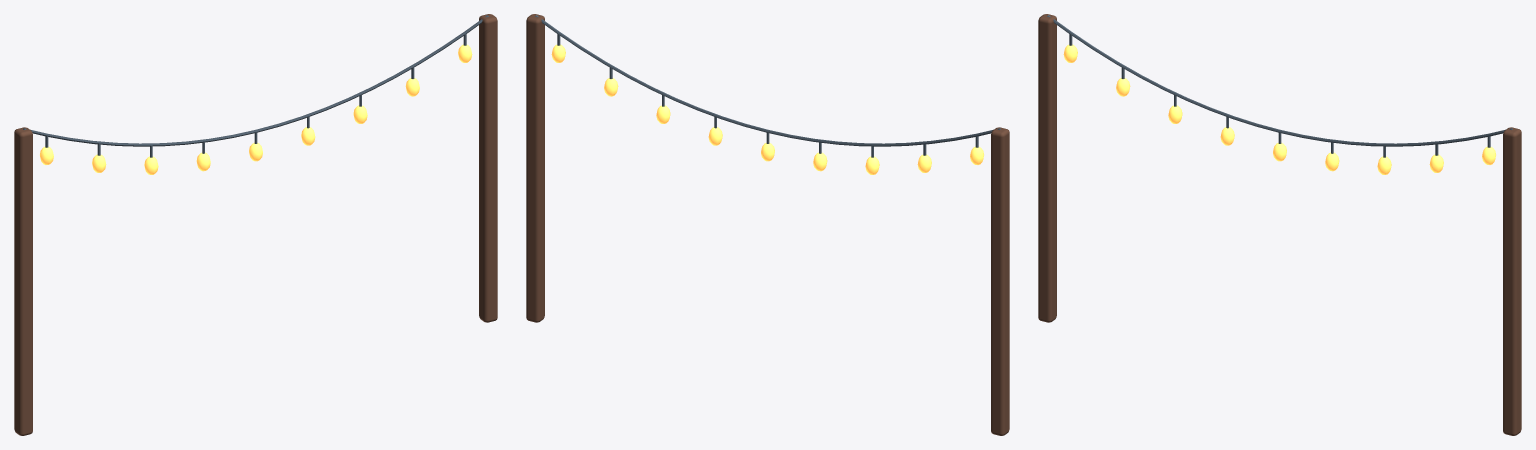
Rendered from alpine-snow-village-warm-festoon-light-span-acb011ac__19848.glb.
3 renders of one model, left to right at view 1: azimuth 30°, elevation 25°; view 2: azimuth 150°, elevation 25°; view 3: azimuth 330°, elevation 25°, orthographic.
Parts seen in each view (by area): view 1: warm-festoon-light-span-wood, warm-festoon-light-span-iron, warm-festoon-light-span-amber; view 2: warm-festoon-light-span-wood, warm-festoon-light-span-iron, warm-festoon-light-span-amber; view 3: warm-festoon-light-span-wood, warm-festoon-light-span-iron, warm-festoon-light-span-amber.
Boxes of the visible parts, <box> form: warm-festoon-light-span-wood: <box>14,14,497,435</box>; warm-festoon-light-span-iron: <box>23,15,488,157</box>; warm-festoon-light-span-amber: <box>40,44,472,174</box>; warm-festoon-light-span-wood: <box>526,14,1009,435</box>; warm-festoon-light-span-iron: <box>535,15,1000,157</box>; warm-festoon-light-span-amber: <box>551,44,983,174</box>; warm-festoon-light-span-wood: <box>1038,14,1521,435</box>; warm-festoon-light-span-iron: <box>1047,15,1512,157</box>; warm-festoon-light-span-amber: <box>1063,44,1495,174</box>.
Size of the model in its own units: 4.12 by 2.51 by 0.1202.
